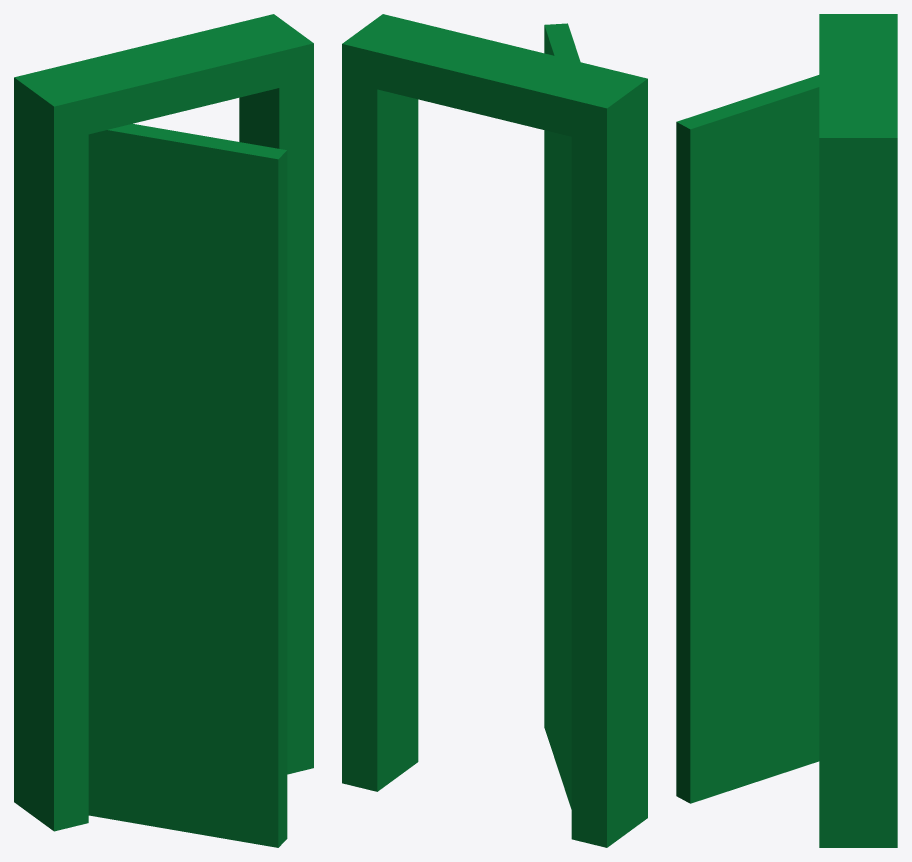
File: door.DAE
3 views of the same model, side by side, from view 1: azimuth 30°, elevation 25°; view 2: azimuth 150°, elevation 25°; view 3: azimuth 270°, elevation 25° (orthographic). The views are drawn at different scales.
Visible parts, largest first — view 1: Box001; view 2: Box001; view 3: Box001.
Boxes of the visible parts, x1,y1,x2,y2 form: Box001: (14, 14, 313, 847); Box001: (342, 14, 647, 847); Box001: (676, 14, 897, 847).
Bounding box in the file's own units: 0.9 × 0.6779 × 2.4.
